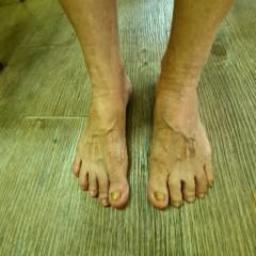Dorsal View -Both Feet-: (51, 45, 233, 226)
